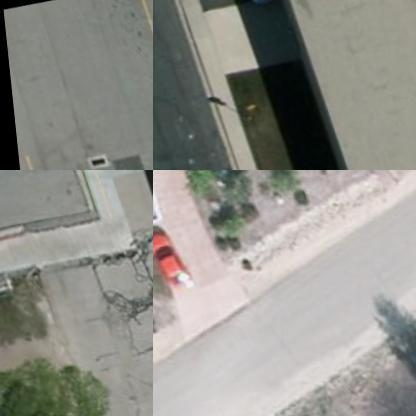car: (153, 221, 193, 293)
